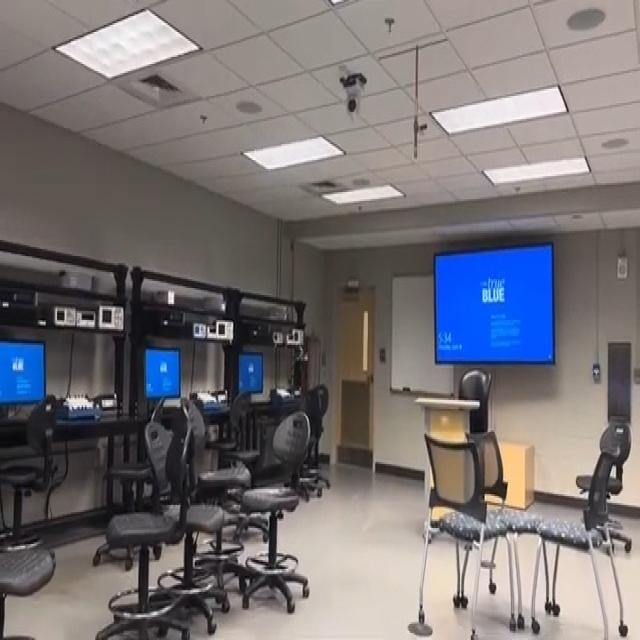drone: (286, 328, 317, 376)
